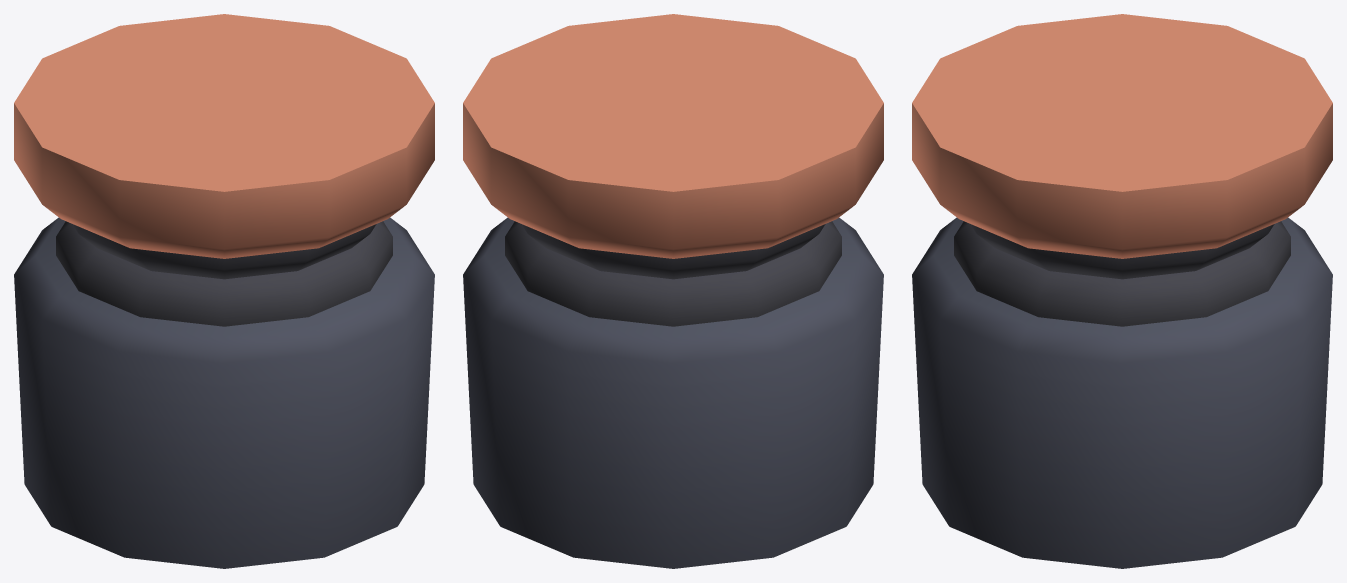
File: piston-round.obj
3 views of the same model, side by side, from view 1: azimuth 30°, elevation 25°; view 2: azimuth 150°, elevation 25°; view 3: azimuth 270°, elevation 25° (orthographic).
Visible parts, largest first — view 1: piston-round, top; view 2: piston-round, top; view 3: piston-round, top.
Part boxes in pixels (x1,y1,x2,y2): piston-round: (14, 217, 434, 568); top: (14, 14, 434, 279); piston-round: (463, 217, 883, 568); top: (463, 14, 883, 279); piston-round: (912, 217, 1332, 568); top: (912, 14, 1332, 279).
Size of the model in its own units: 1 by 1 by 1.
